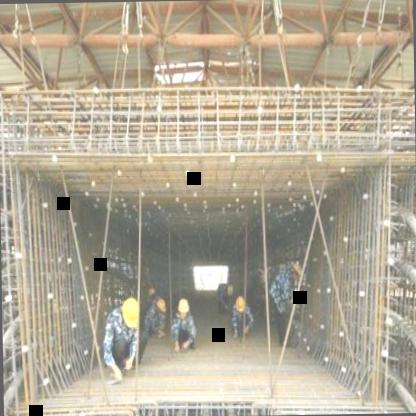helmet: (118, 295, 143, 333), (174, 296, 192, 326), (230, 292, 246, 319), (155, 294, 168, 316)
